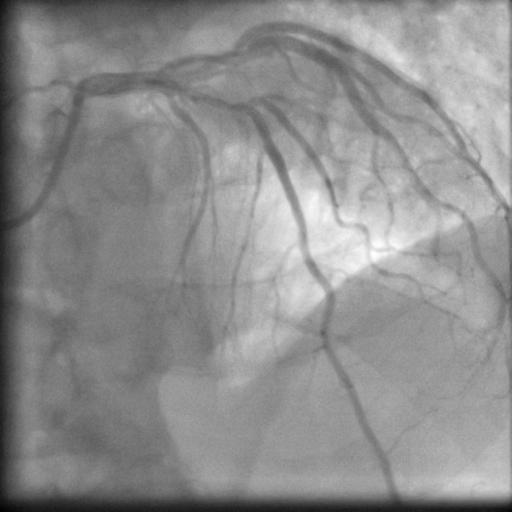Stenosis: (196, 88, 243, 108)
